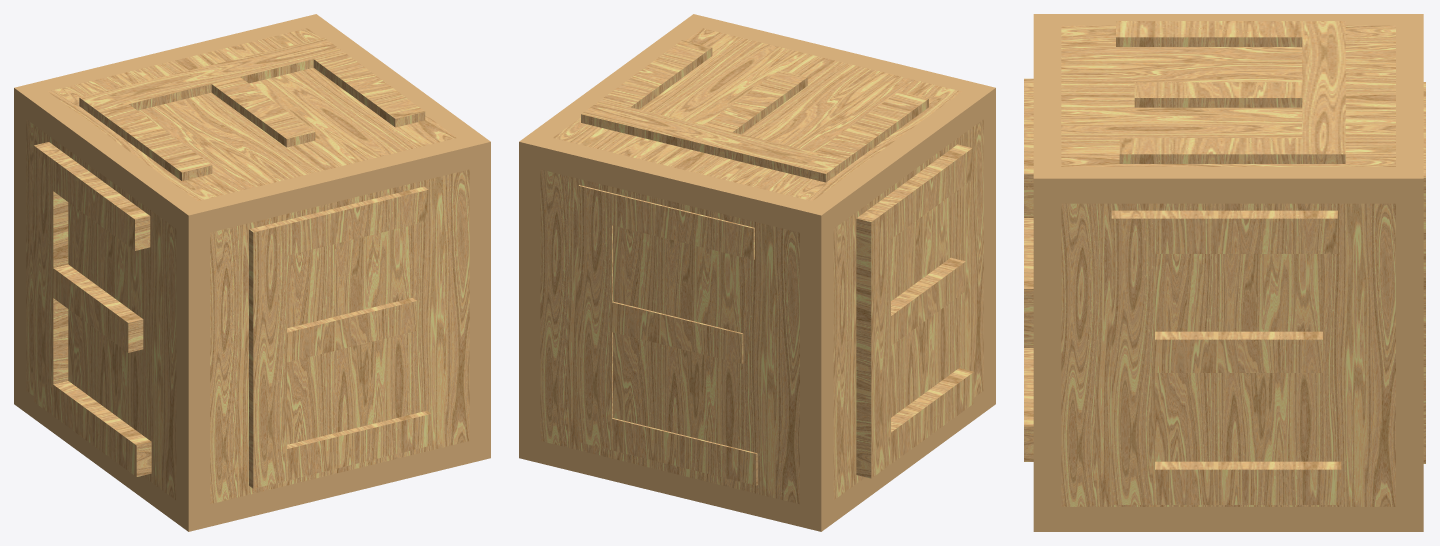
Rendered from block-e.fbx.
3 renders of one model, left to right at view 1: azimuth 30°, elevation 25°; view 2: azimuth 150°, elevation 25°; view 3: azimuth 270°, elevation 25°, orthographic. The views are drawn at different scales.
Parts seen in each view (by area): view 1: Box, FRONT, LEFT, TOP; view 2: Box, BACK, LEFT, TOP; view 3: Box, RIGHT, TOP, FRONT, BACK.
Part boxes in pixels (<box>): Box: <box>14,14,490,531</box>; FRONT: <box>249,186,431,488</box>; LEFT: <box>33,142,151,476</box>; TOP: <box>79,37,425,180</box>; Box: <box>519,14,995,531</box>; BACK: <box>578,185,757,485</box>; LEFT: <box>856,144,974,478</box>; TOP: <box>581,40,928,182</box>; Box: <box>1033,14,1423,531</box>; RIGHT: <box>1111,210,1341,504</box>; TOP: <box>1116,21,1345,163</box>; FRONT: <box>1024,78,1033,461</box>; BACK: <box>1423,82,1425,463</box>.
Size of the model in its own units: 1.1 by 1.04 by 1.03.
2 materials, 2 textured.
